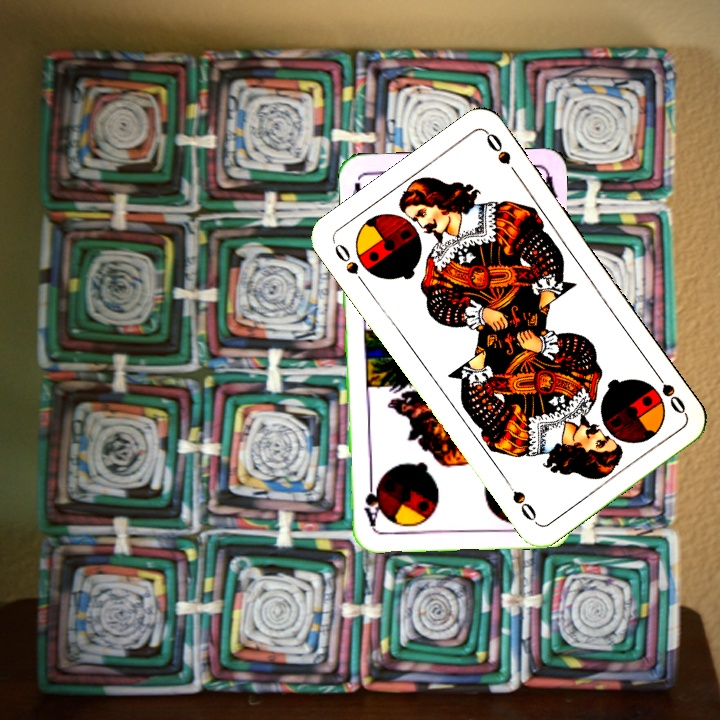SO: (649, 365, 689, 417), (330, 239, 369, 290)
